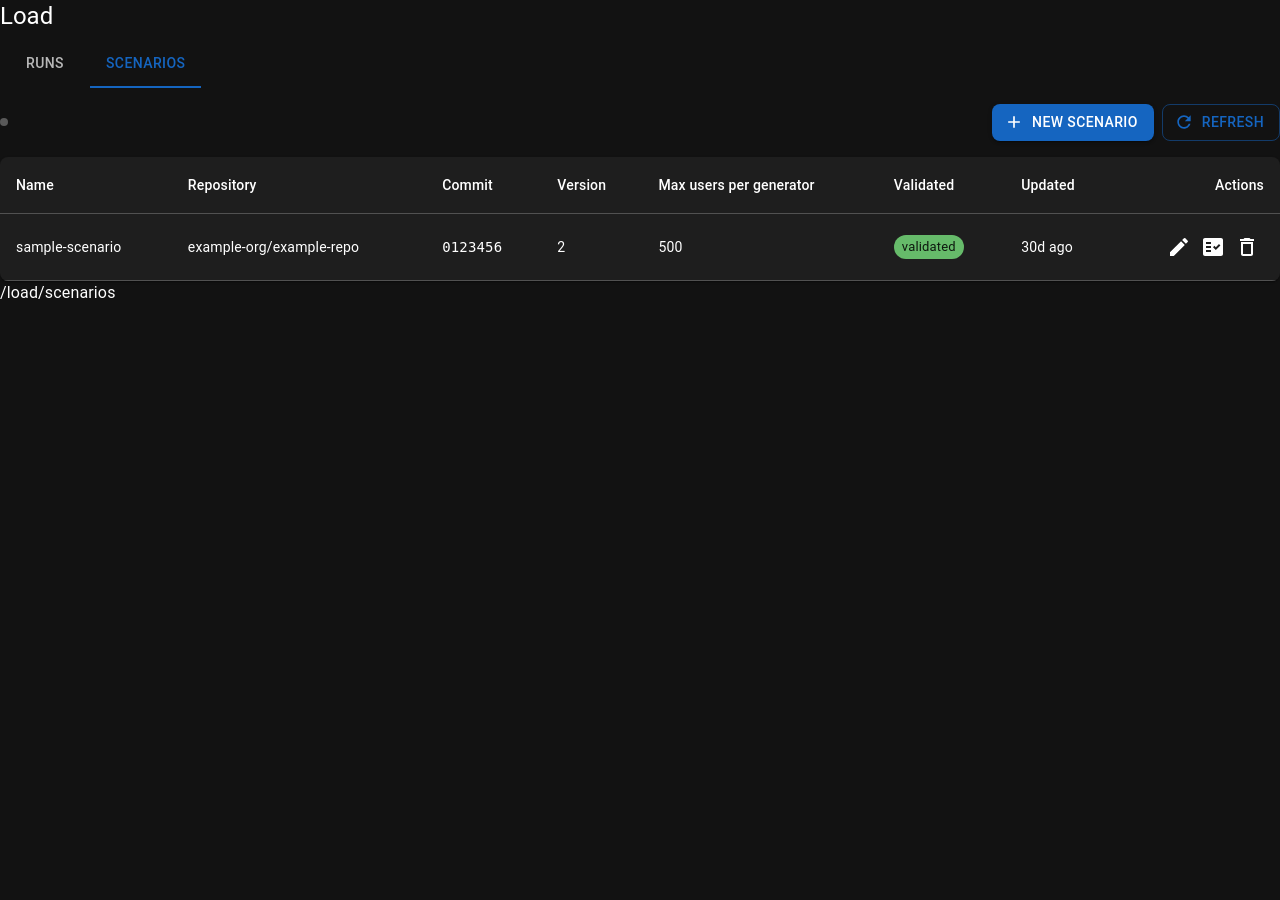
Test case: LoadPage scenarios › Validate on a scenario opens the prefilled form and Delete confirms
Click the button named "delete sample-scenario" at {"x": 1247, "y": 246}, box left=1230, top=230, right=1264, bottom=264
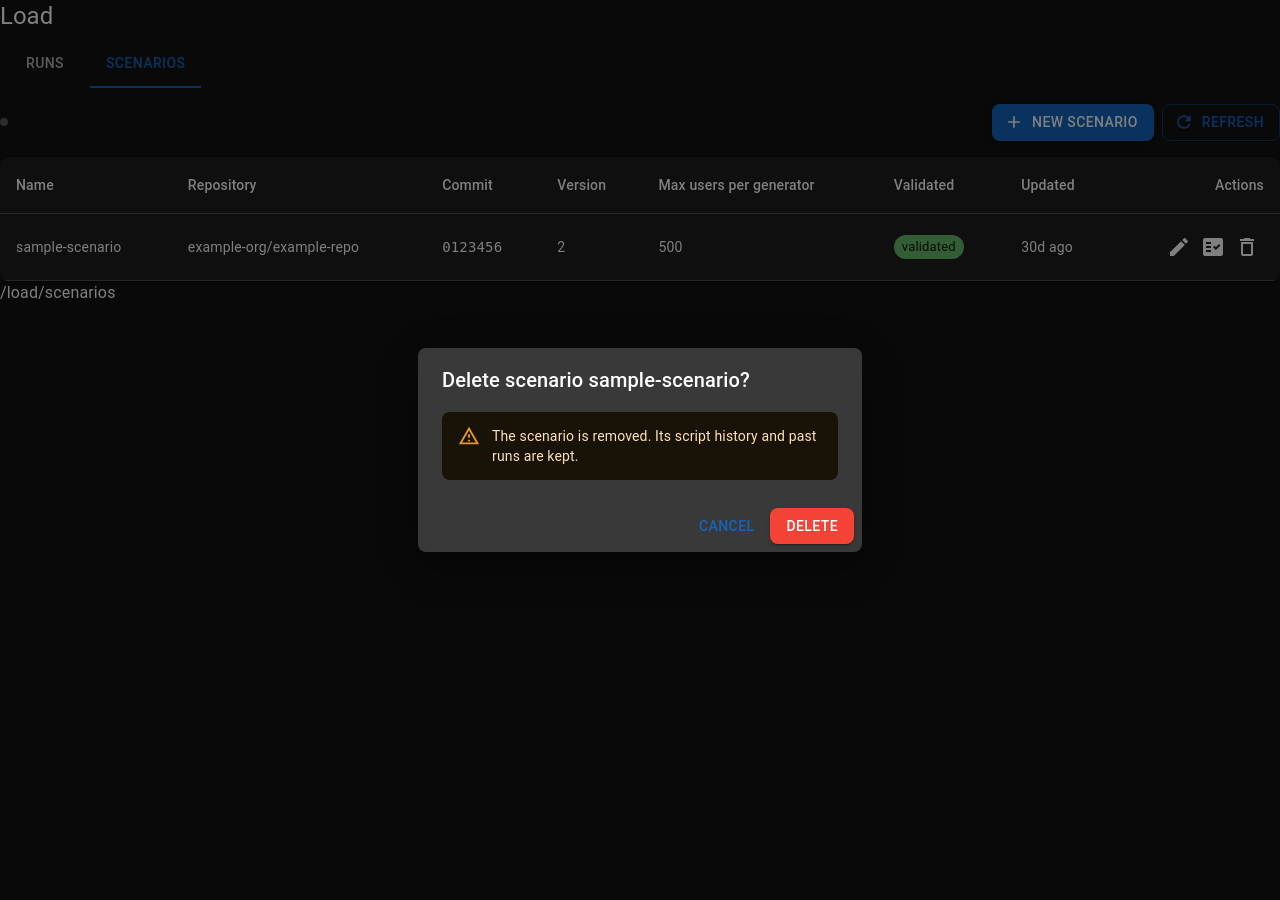
Click the button "Delete" at {"x": 812, "y": 526}, box left=770, top=508, right=854, bottom=544
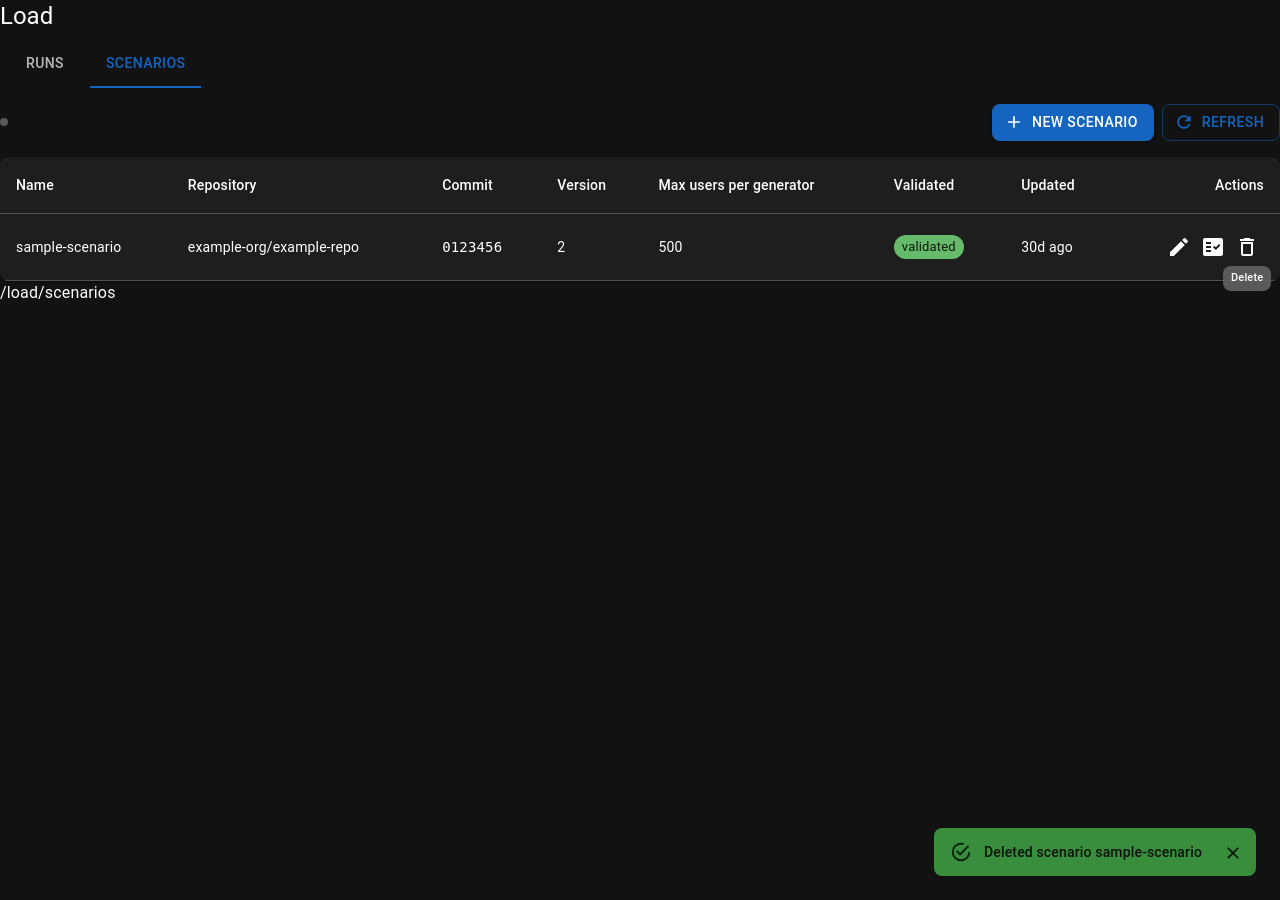
Click the button named "validate sample-scenario" at {"x": 1213, "y": 246}, box left=1196, top=230, right=1230, bottom=264
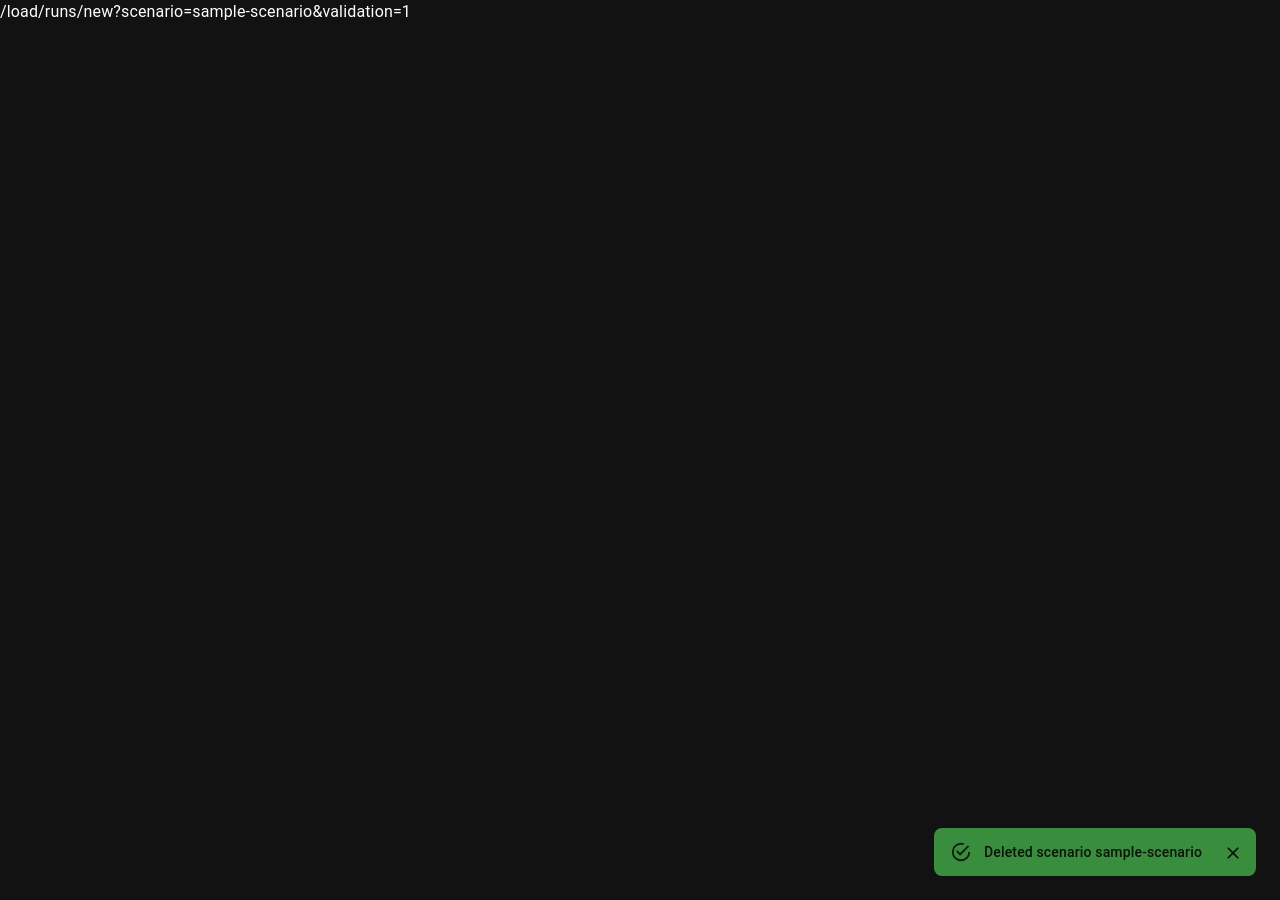
Expected: the text with test id "location" reads "/load/runs/new?scenario=sample-scenario&validation=1", left=0, top=2, right=411, bottom=21
